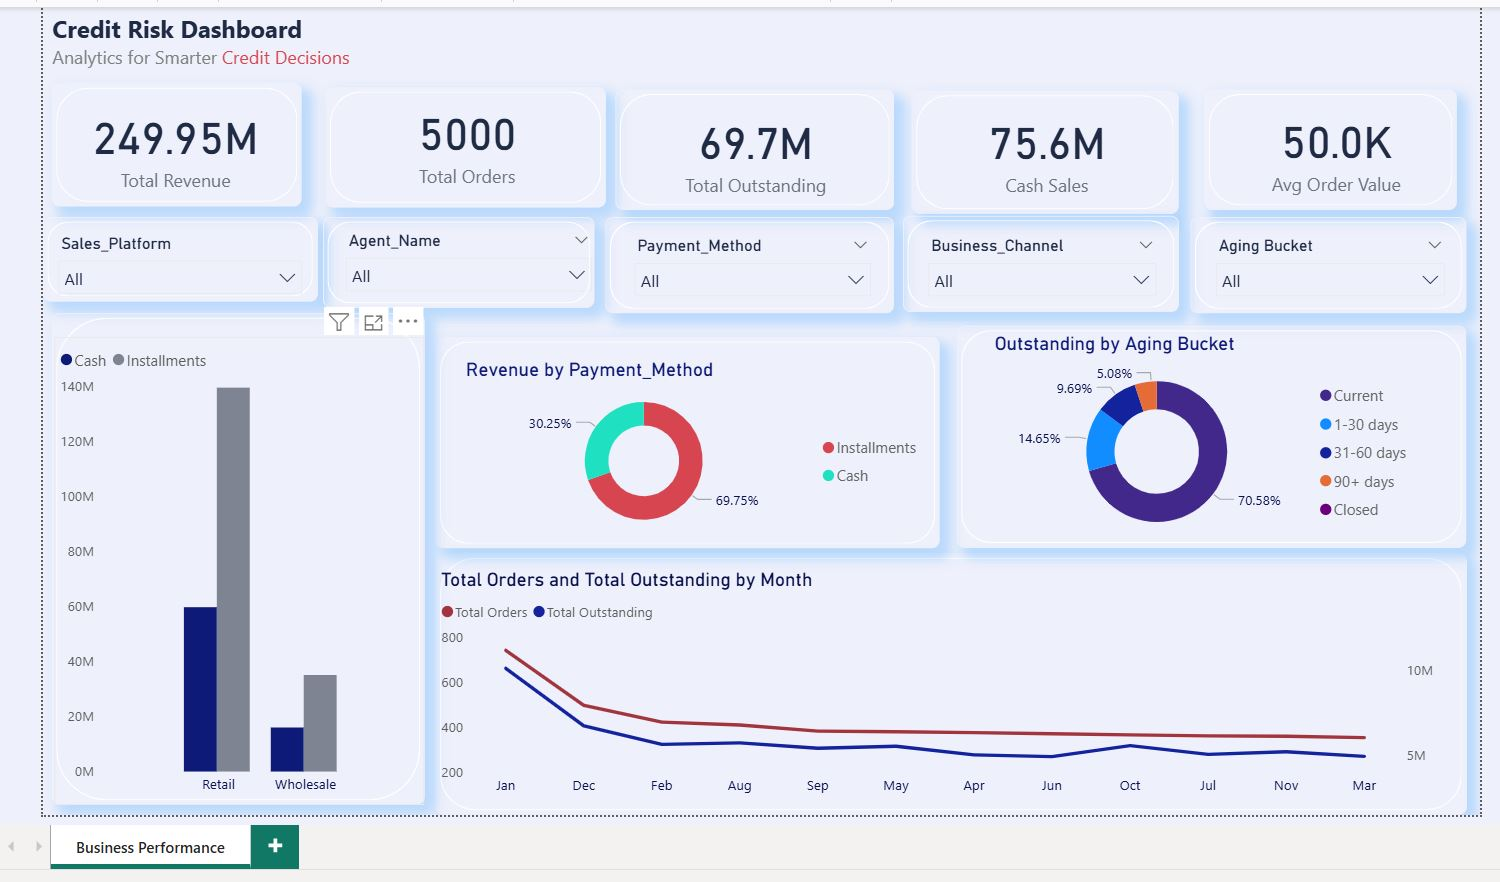

This screenshot's page, from the dashboard's own definition file:
{"tool":"powerbi","page":{"name":"Business Performance","canvas":[1280,720],"ordinal":0},"visuals":[{"type":"group","id":"g1","title":"Group 1","box":[2.8,0,471,61.5],"z":0},{"type":"shape","box":[510,73.6,248.3,107.2],"z":0,"group":"g4"},{"type":"slicer","fields":{"Values":["Agents.Agent_Name"]},"box":[259.4,194.3,239.4,70],"z":0,"group":"g8"},{"type":"slicer","fields":{"Values":["Sales.Payment_Method"]},"box":[517.3,199.3,230.8,70],"z":0,"group":"g9"},{"type":"textbox","box":[2.8,0,471,61.5],"z":1,"group":"g1"},{"type":"shape","box":[7.3,67.6,222.7,109.6],"z":3,"group":"g2"},{"type":"shape","box":[251.9,71.2,249.5,107.2],"z":5,"group":"g3"},{"type":"shape","box":[774.2,74.1,237.3,109.6],"z":7,"group":"g5"},{"type":"shape","box":[1034.5,73.6,225.2,107.2],"z":8,"group":"g6"},{"type":"shape","box":[0,187,244.4,74.9],"z":9,"group":"g7"},{"type":"card","fields":{"Values":["Sales.Total Revenue"]},"box":[9.4,70,216.6,107.2],"z":10,"group":"g2"},{"type":"card","fields":{"Values":["Agents.Total Orders"]},"box":[273.8,73.6,208.1,93.9],"z":10,"group":"g3"},{"type":"group","id":"g2","title":"Group 2","box":[7.3,67.6,222.7,109.6],"z":1000,"group":"g12"},{"type":"card","fields":{"Values":["Sales.Total Outstanding"]},"box":[528.6,82,212.4,91.5],"z":1000,"group":"g4"},{"type":"card","fields":{"Values":["Sales.Cash Sales"]},"box":[788.6,82,212.2,92.1],"z":1000,"group":"g5"},{"type":"shape","box":[249.4,187,241.9,81],"z":1000,"group":"g8"},{"type":"shape","box":[501.2,187,256.8,85.9],"z":1000,"group":"g9"},{"type":"card","fields":{"Values":["Sales.Avg Order Value"]},"box":[1045.9,81.4,213.4,92.1],"z":1001,"group":"g6"},{"type":"slicer","fields":{"Values":["Agents.Sales_Platform"]},"box":[3.7,196.7,237.5,65.1],"z":1007,"group":"g7"},{"type":"group","id":"g3","title":"Group 3","box":[251.9,71.2,249.5,107.2],"z":2000,"group":"g12"},{"type":"group","id":"g4","title":"Group 4","box":[510,73.6,248.3,107.2],"z":3000,"group":"g12"},{"type":"group","id":"g5","title":"Group 5","box":[774.2,74.1,237.3,109.6],"z":4000,"group":"g12"},{"type":"group","id":"g6","title":"Group 6","box":[1034.5,73.6,225.2,107.2],"z":5000,"group":"g12"},{"type":"shape","box":[765.5,185.8,245.7,85.9],"z":6000,"group":"g10"},{"type":"shape","box":[1022.3,187,245.7,85.9],"z":7000,"group":"g11"},{"type":"shape","box":[7.4,273,332.1,437.8],"z":8000,"group":"g15"},{"type":"shape","box":[814.1,284.1,453.8,197.4],"z":8000,"group":"g14"},{"type":"shape","box":[349.3,293.9,448.9,188.2],"z":8000,"group":"g13"},{"type":"shape","box":[349.9,486.2,918.1,232.8],"z":8000},{"type":"slicer","fields":{"Values":["Branches.Business_Channel"]},"box":[777.9,199.3,223.3,68.7],"z":9000,"group":"g10"},{"type":"slicer","fields":{"Values":["Sales.Aging Bucket"]},"box":[1034.7,199.3,224.6,65.1],"z":10000,"group":"g11"},{"type":"group","id":"g7","title":"Group 7","box":[0,187,244.4,74.9],"z":11000,"group":"g12"},{"type":"group","id":"g8","title":"Group 8","box":[249.4,187,249.4,81],"z":13000,"group":"g12"},{"type":"group","id":"g9","title":"Group 9","box":[501.2,187,256.8,85.9],"z":14000,"group":"g12"},{"type":"group","id":"g10","title":"Group 10","box":[765.5,185.8,245.7,85.9],"z":14001,"group":"g12"},{"type":"group","id":"g11","title":"Group 11","box":[1022.3,187,245.7,85.9],"z":14002,"group":"g12"},{"type":"group","id":"g12","title":"Group 12","box":[0,67.6,1268,205.4],"z":14003},{"type":"donutChart","title":"Revenue by Payment_Method","fields":{"Category":["Sales.Payment_Method"],"Y":["Sales.Total Revenue"]},"box":[371.2,312.5,419.8,163.9],"z":14007,"group":"g13"},{"type":"group","id":"g13","title":"Group 13","box":[349.3,293.9,448.9,188.2],"z":14008},{"type":"donutChart","title":"Outstanding by Aging Bucket","fields":{"Category":["Sales.Aging Bucket"],"Y":["Sales.Total Outstanding"]},"box":[842.6,289.1,385.7,194.2],"z":14009,"group":"g14"},{"type":"group","id":"g14","title":"Group 14","box":[814.1,284.1,453.8,199.2],"z":14010},{"type":"group","id":"g15","title":"Group 14","box":[7.4,273,332.1,437.8],"z":14011},{"type":"clusteredColumnChart","fields":{"Category":["Branches.Business_Channel"],"Series":["Sales.Payment_Method"],"Y":["Sales.Total Revenue"]},"box":[9.8,293.9,329.6,416.9],"z":14012},{"type":"lineChart","fields":{"Y":["Agents.Total Orders"],"Category":["Calendar.Month"],"Y2":["Sales.Total Outstanding"]},"box":[349.3,499.3,894.1,211.5],"z":14013}]}

Visuals, with their boxes on the page's 1280x720 design canvas (x1, y1, x2, y2). These are canvas units, not pixel positions in the 1500x882 screenshot, which may show the page scaled, cropped or inside an application window:
"Group 1" group: (left=3, top=0, right=474, bottom=62)
shape: (left=510, top=74, right=758, bottom=181)
slicer - Agents.Agent_Name: (left=259, top=194, right=499, bottom=264)
slicer - Sales.Payment_Method: (left=517, top=199, right=748, bottom=269)
textbox: (left=3, top=0, right=474, bottom=62)
shape: (left=7, top=68, right=230, bottom=177)
shape: (left=252, top=71, right=501, bottom=178)
shape: (left=774, top=74, right=1012, bottom=184)
shape: (left=1034, top=74, right=1260, bottom=181)
shape: (left=0, top=187, right=244, bottom=262)
card - Sales.Total Revenue: (left=9, top=70, right=226, bottom=177)
card - Agents.Total Orders: (left=274, top=74, right=482, bottom=168)
"Group 2" group: (left=7, top=68, right=230, bottom=177)
card - Sales.Total Outstanding: (left=529, top=82, right=741, bottom=174)
card - Sales.Cash Sales: (left=789, top=82, right=1001, bottom=174)
shape: (left=249, top=187, right=491, bottom=268)
shape: (left=501, top=187, right=758, bottom=273)
card - Sales.Avg Order Value: (left=1046, top=81, right=1259, bottom=174)
slicer - Agents.Sales_Platform: (left=4, top=197, right=241, bottom=262)
"Group 3" group: (left=252, top=71, right=501, bottom=178)
"Group 4" group: (left=510, top=74, right=758, bottom=181)
"Group 5" group: (left=774, top=74, right=1012, bottom=184)
"Group 6" group: (left=1034, top=74, right=1260, bottom=181)
shape: (left=766, top=186, right=1011, bottom=272)
shape: (left=1022, top=187, right=1268, bottom=273)
shape: (left=7, top=273, right=340, bottom=711)
shape: (left=814, top=284, right=1268, bottom=482)
shape: (left=349, top=294, right=798, bottom=482)
shape: (left=350, top=486, right=1268, bottom=719)
slicer - Branches.Business_Channel: (left=778, top=199, right=1001, bottom=268)
slicer - Sales.Aging Bucket: (left=1035, top=199, right=1259, bottom=264)
"Group 7" group: (left=0, top=187, right=244, bottom=262)
"Group 8" group: (left=249, top=187, right=499, bottom=268)
"Group 9" group: (left=501, top=187, right=758, bottom=273)
"Group 10" group: (left=766, top=186, right=1011, bottom=272)
"Group 11" group: (left=1022, top=187, right=1268, bottom=273)
"Group 12" group: (left=0, top=68, right=1268, bottom=273)
"Revenue by Payment_Method" donutChart: (left=371, top=312, right=791, bottom=476)
"Group 13" group: (left=349, top=294, right=798, bottom=482)
"Outstanding by Aging Bucket" donutChart: (left=843, top=289, right=1228, bottom=483)
"Group 14" group: (left=814, top=284, right=1268, bottom=483)
"Group 14" group: (left=7, top=273, right=340, bottom=711)
clusteredColumnChart - Branches.Business_Channel x Sales.Payment_Method: (left=10, top=294, right=339, bottom=711)
lineChart - Agents.Total Orders x Calendar.Month: (left=349, top=499, right=1243, bottom=711)
